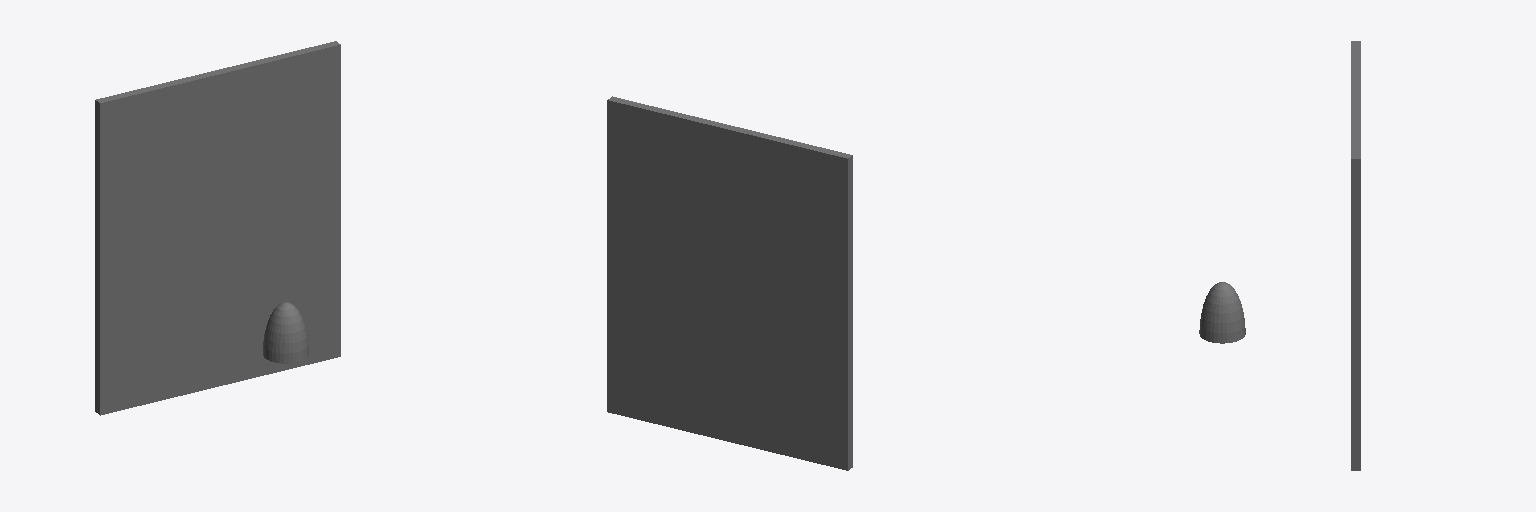
File: 1_light_wall.obj
The picture shows the model from 3 angles: view 1: azimuth 30°, elevation 25°; view 2: azimuth 150°, elevation 25°; view 3: azimuth 270°, elevation 25°; orthographic projection.
Parts seen in each view (by area): view 1: pCube1, hemisphere:Mesh; view 2: pCube1; view 3: pCube1, hemisphere:Mesh.
Boxes of the visible parts, x1=… form: pCube1: x1=95, y1=41, x2=340, y2=415; hemisphere:Mesh: x1=263, y1=302, x2=308, y2=363; pCube1: x1=607, y1=96, x2=852, y2=470; pCube1: x1=1351, y1=41, x2=1360, y2=470; hemisphere:Mesh: x1=1199, y1=282, x2=1245, y2=343.
Size of the model in its own units: 11.97 by 14.85 by 6.95.